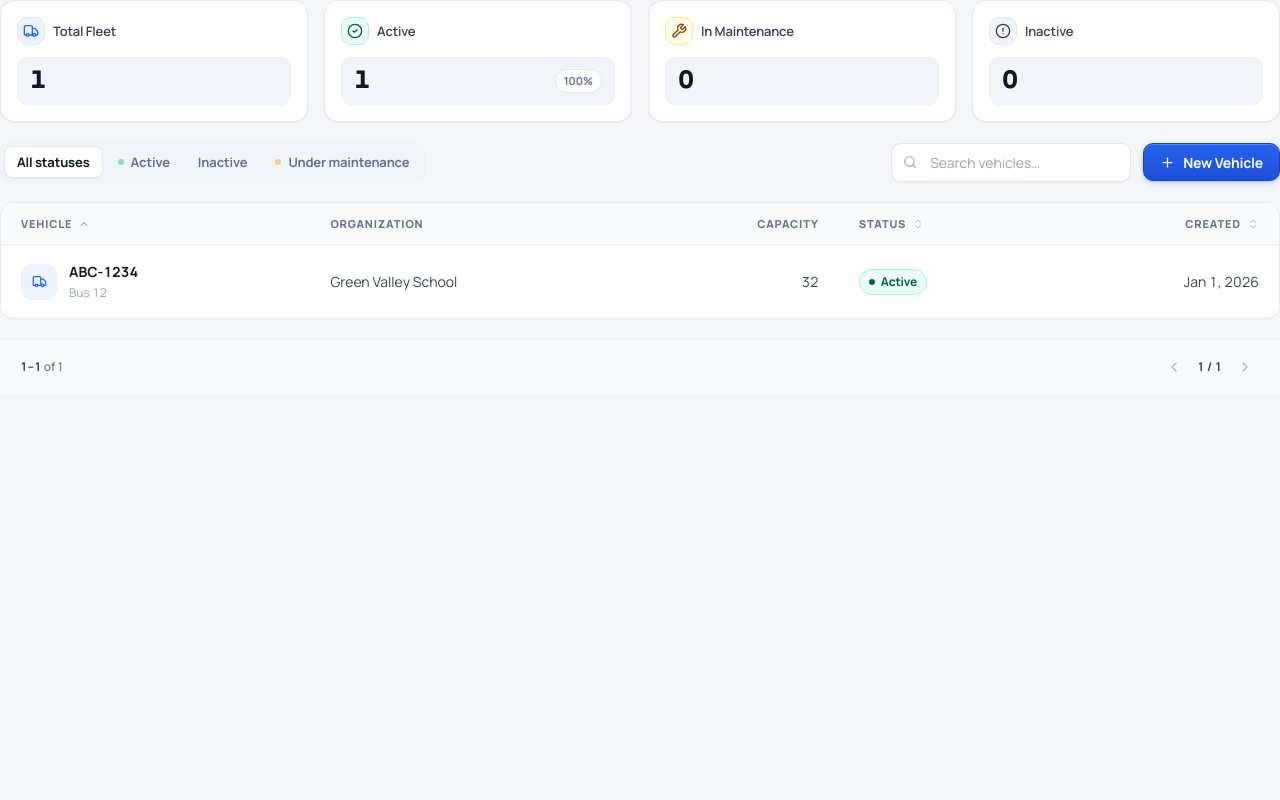
Test: VehiclesPage › opens the detail drawer with the vehicle's details on row click
Click the text "ABC-1234" at (104,272), box [69, 261, 138, 283]
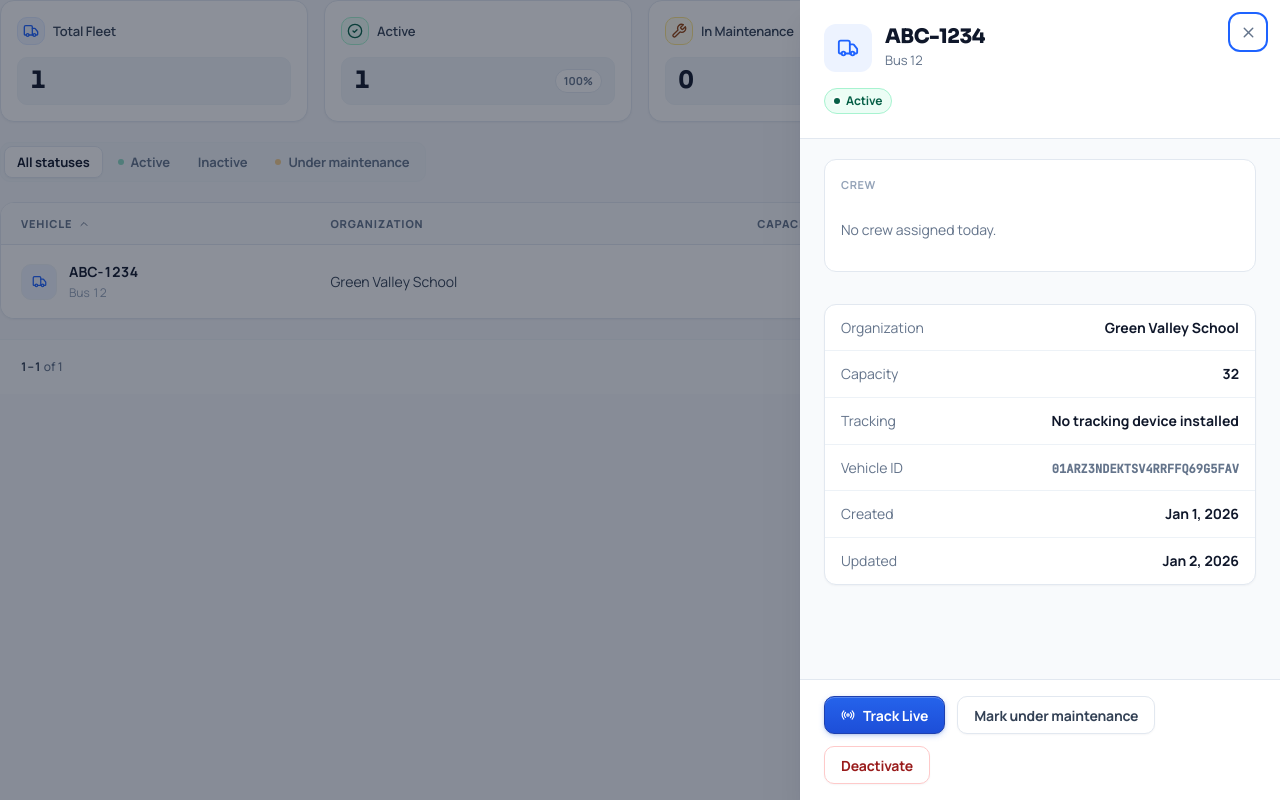
expect the text "Capacity" is shown: met, box [841, 363, 898, 385]
expect the text "32" is shown: met, box [1222, 363, 1239, 385]
expect the text "01ARZ3NDEKTSV4RRFFQ69G5FAV" is shown: met, box [1052, 461, 1239, 477]
